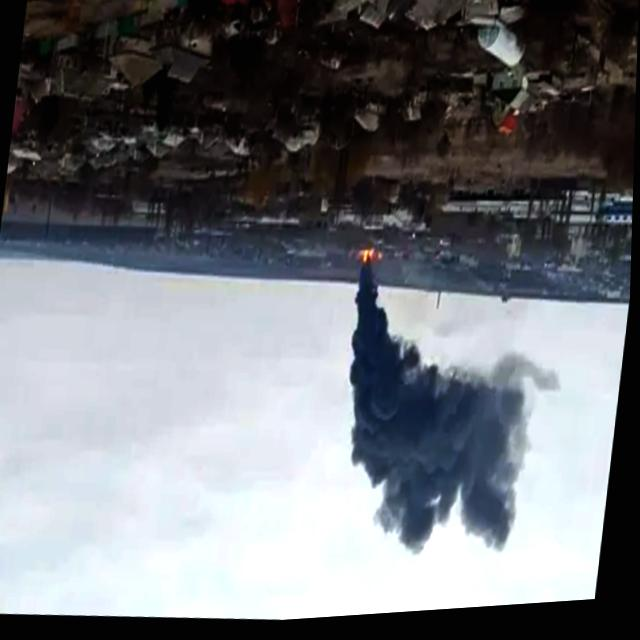no_helmet: (304, 255, 569, 577)
